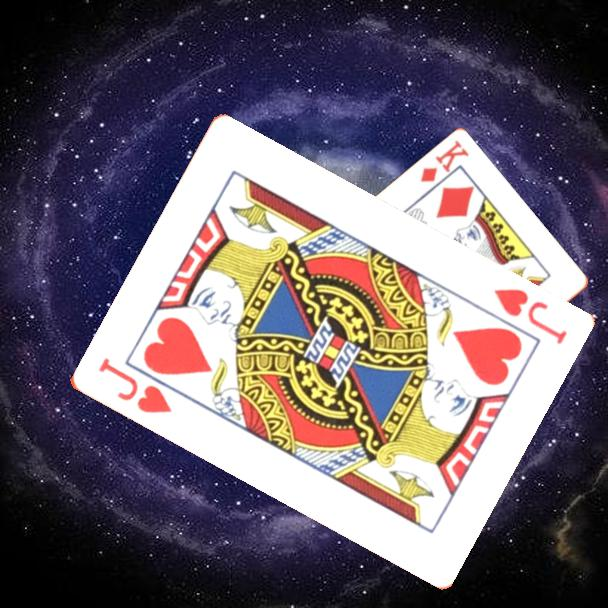d13: (417, 137, 472, 186)
h11: (94, 354, 174, 417), (489, 285, 569, 348)
